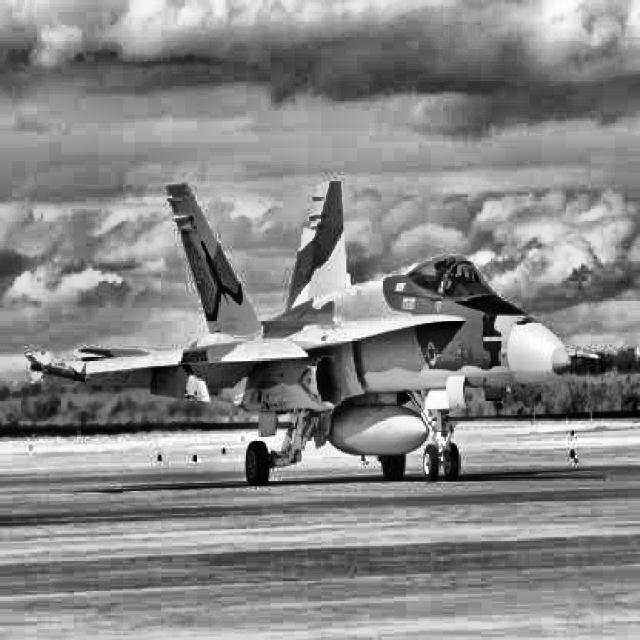F18: (25, 181, 600, 485)
